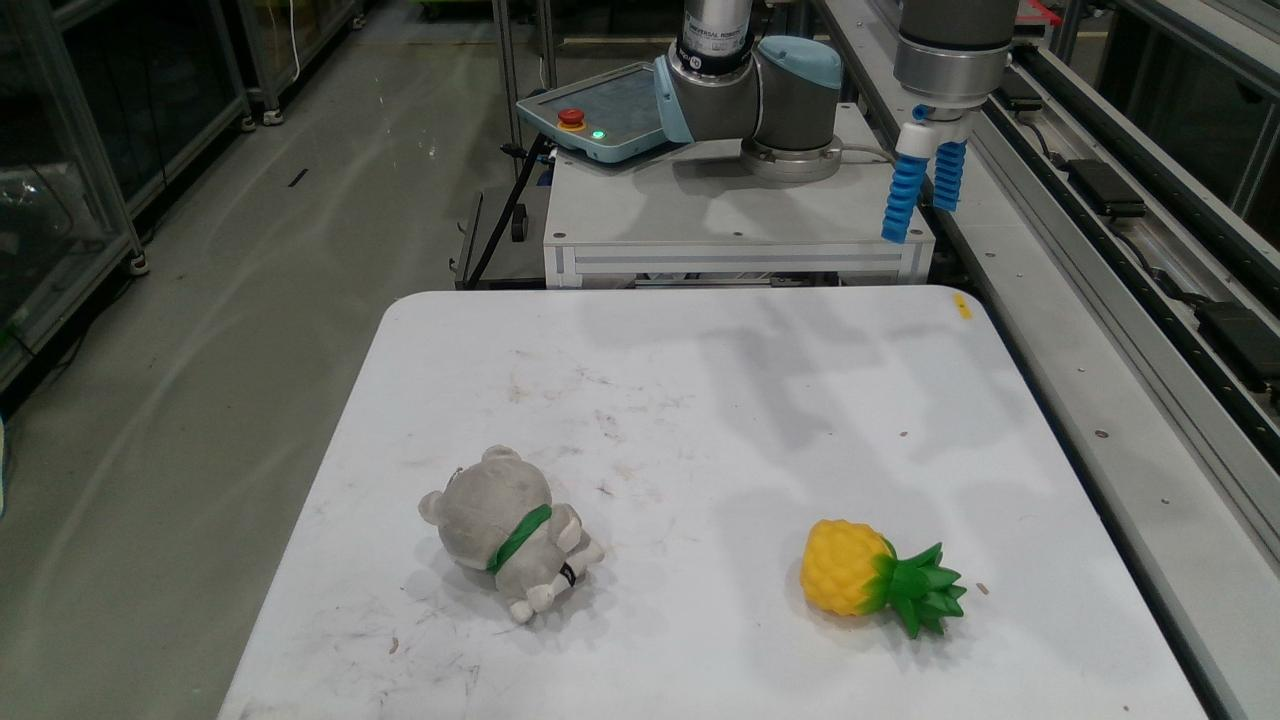UR5: (653, 0, 843, 182), (894, 0, 1020, 158)
gripper_left: (881, 155, 930, 243)
gripper_right: (932, 139, 969, 212)
target: (420, 444, 605, 623), (799, 519, 966, 639)
